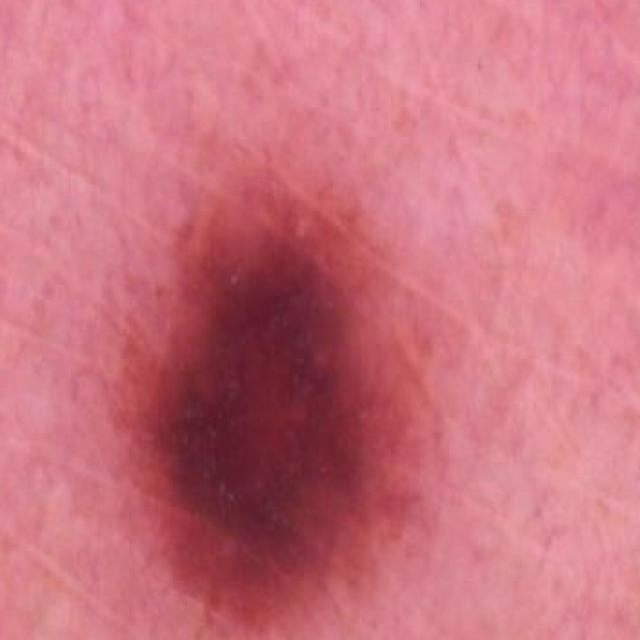NV: (131, 200, 456, 640)
